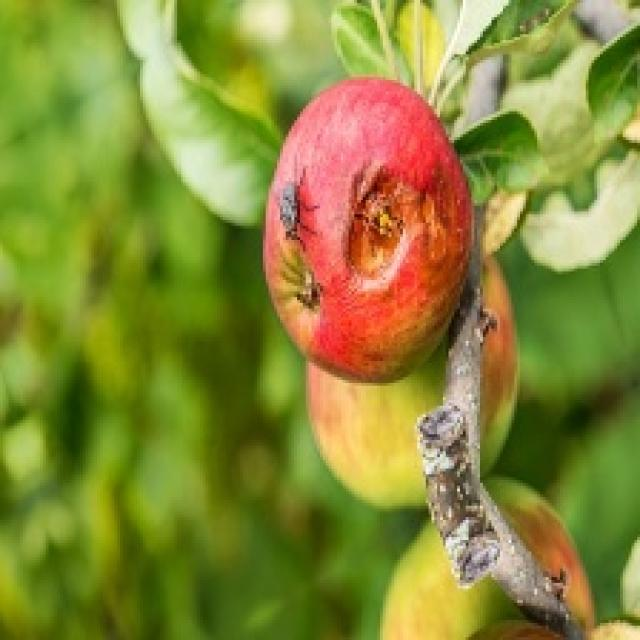rotten_apple: (265, 81, 473, 382)
